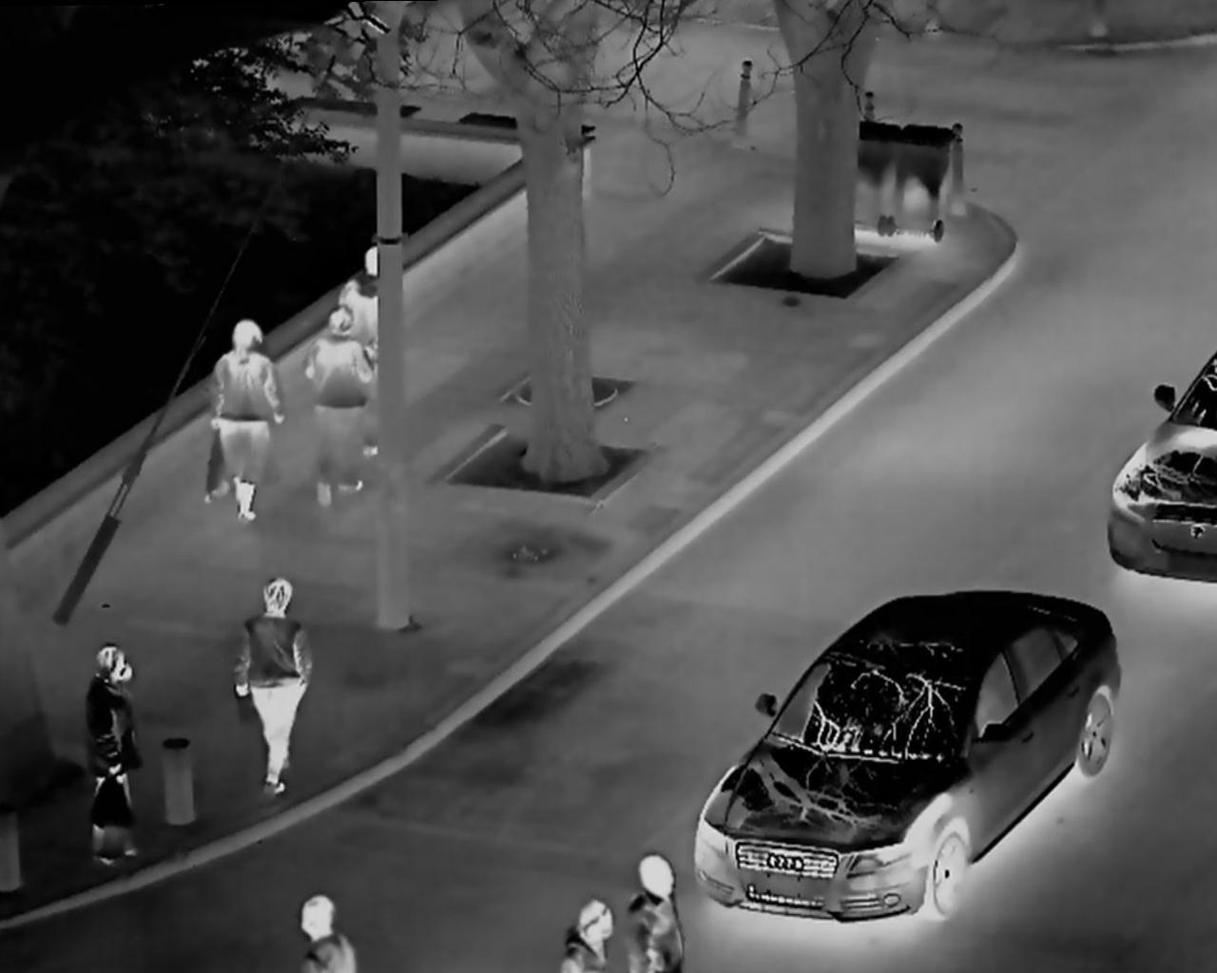person: (227, 564, 322, 811), (70, 636, 158, 869), (201, 299, 281, 534), (301, 303, 375, 506), (633, 851, 695, 973), (282, 886, 361, 973), (553, 886, 627, 973), (339, 238, 393, 333)
